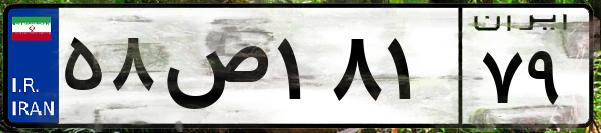1: (270, 28, 330, 110), (385, 28, 445, 110)
5: (57, 26, 110, 100)
7: (475, 38, 525, 113)
8: (330, 28, 385, 110), (110, 28, 158, 98)
9: (525, 38, 570, 115)
ص: (158, 20, 270, 120)
